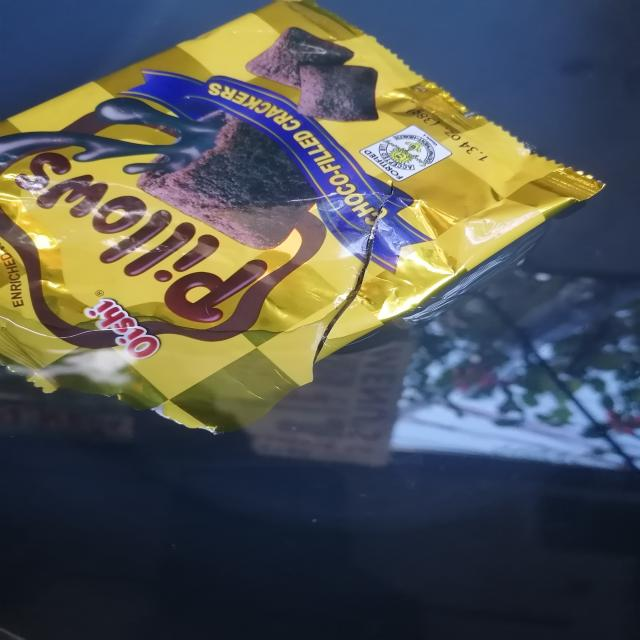Plastic Wrapper: (0, 0, 603, 430)
